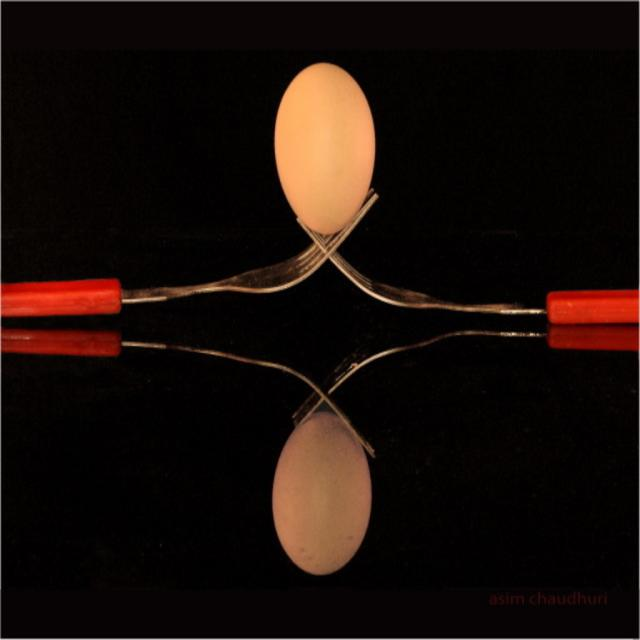Egg: (273, 62, 376, 235)
